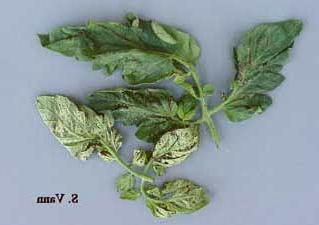Tomato leaf bacterial spot: (33, 14, 205, 88), (220, 22, 302, 118), (28, 91, 119, 160), (148, 126, 202, 174)
